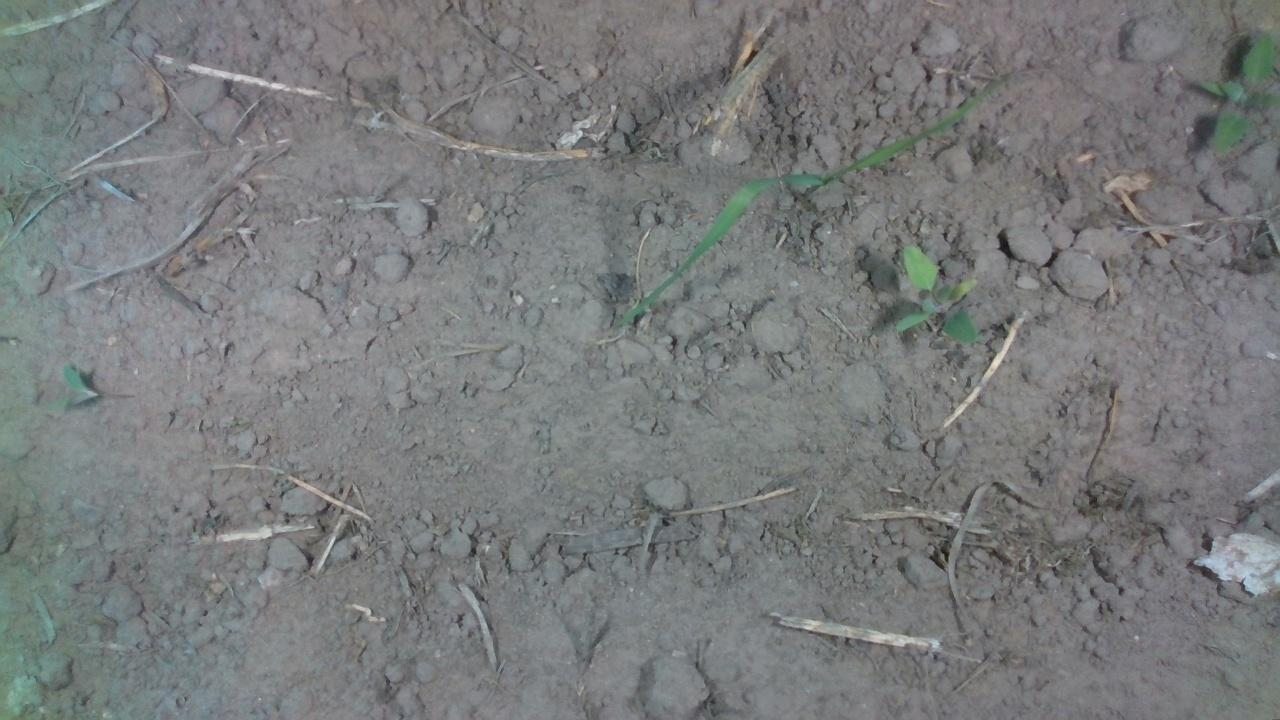weed: (888, 239, 982, 346)
